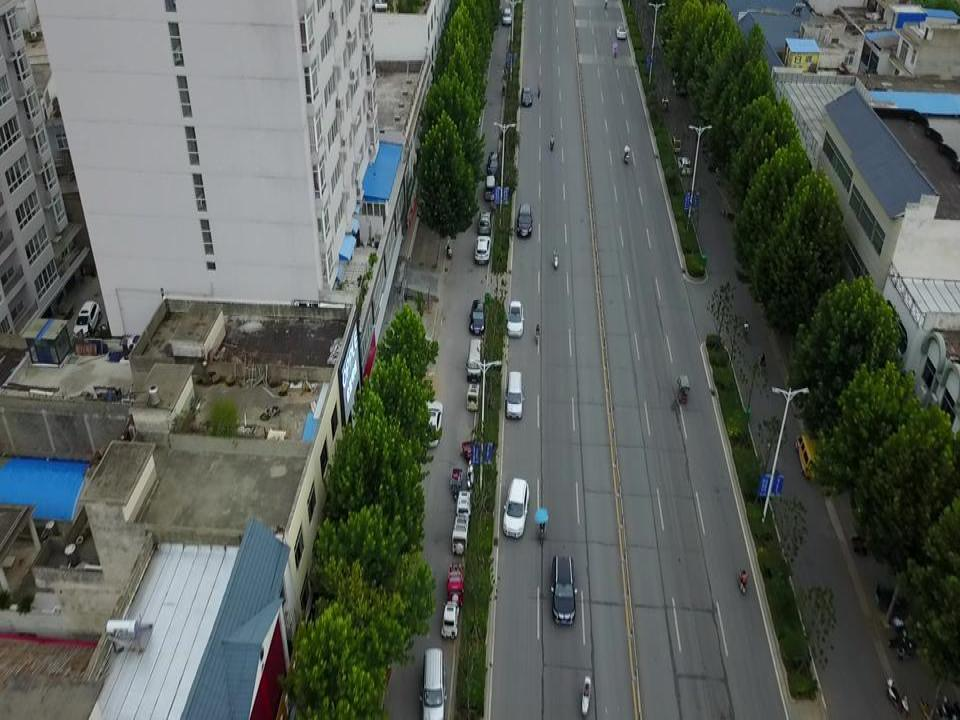car: (550, 555, 577, 624), (503, 478, 529, 538), (73, 300, 101, 340), (421, 401, 443, 448), (506, 301, 524, 338), (469, 300, 486, 333), (516, 204, 533, 237), (474, 236, 490, 264), (486, 151, 500, 176), (478, 210, 492, 234), (678, 156, 692, 176), (521, 86, 533, 106), (501, 8, 512, 25), (615, 25, 626, 39)
van: (419, 648, 446, 720), (795, 434, 822, 478), (504, 371, 524, 419), (466, 339, 482, 381), (484, 175, 497, 200)
